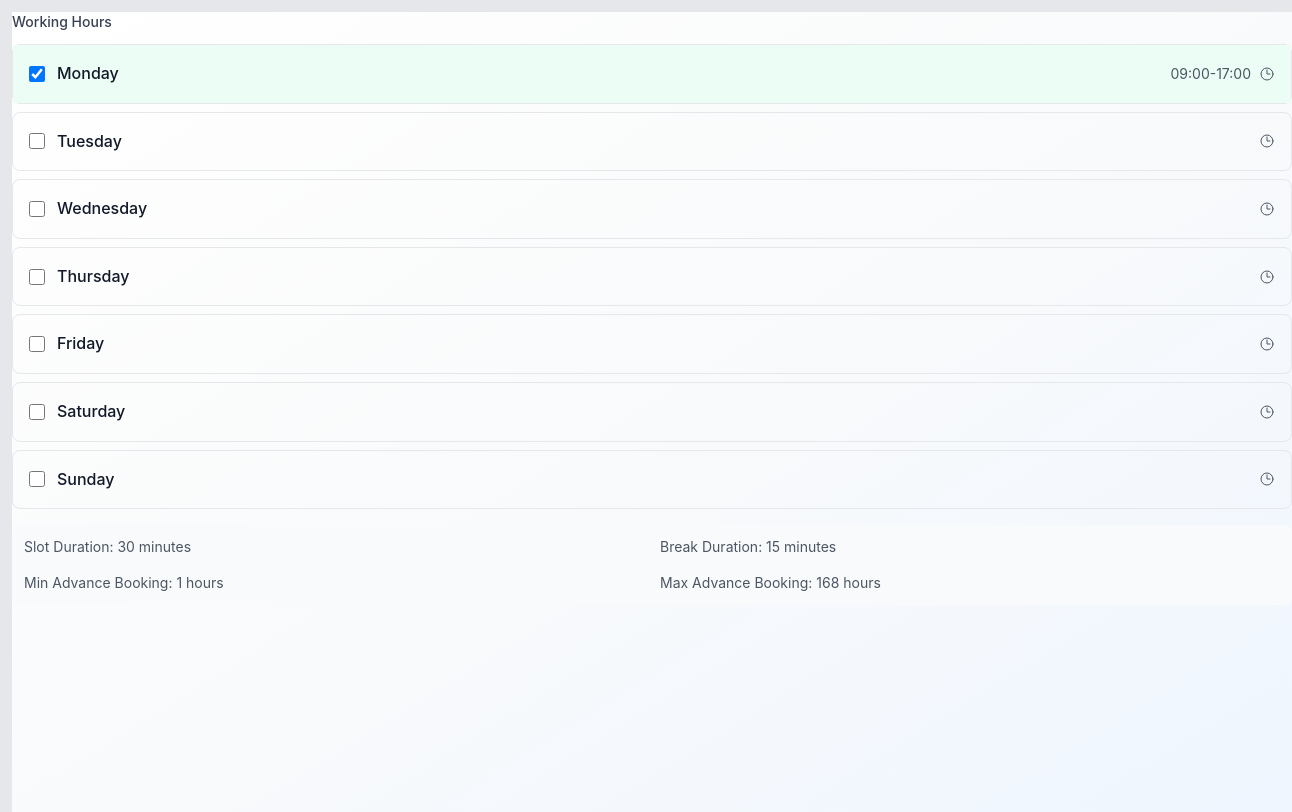
TimeSlotPicker › expands day schedule when clicked
What coordinates should you click on to do the following:
click the text "Monday"
I would click on:
 (74, 74)
Its box is [29, 61, 119, 87].
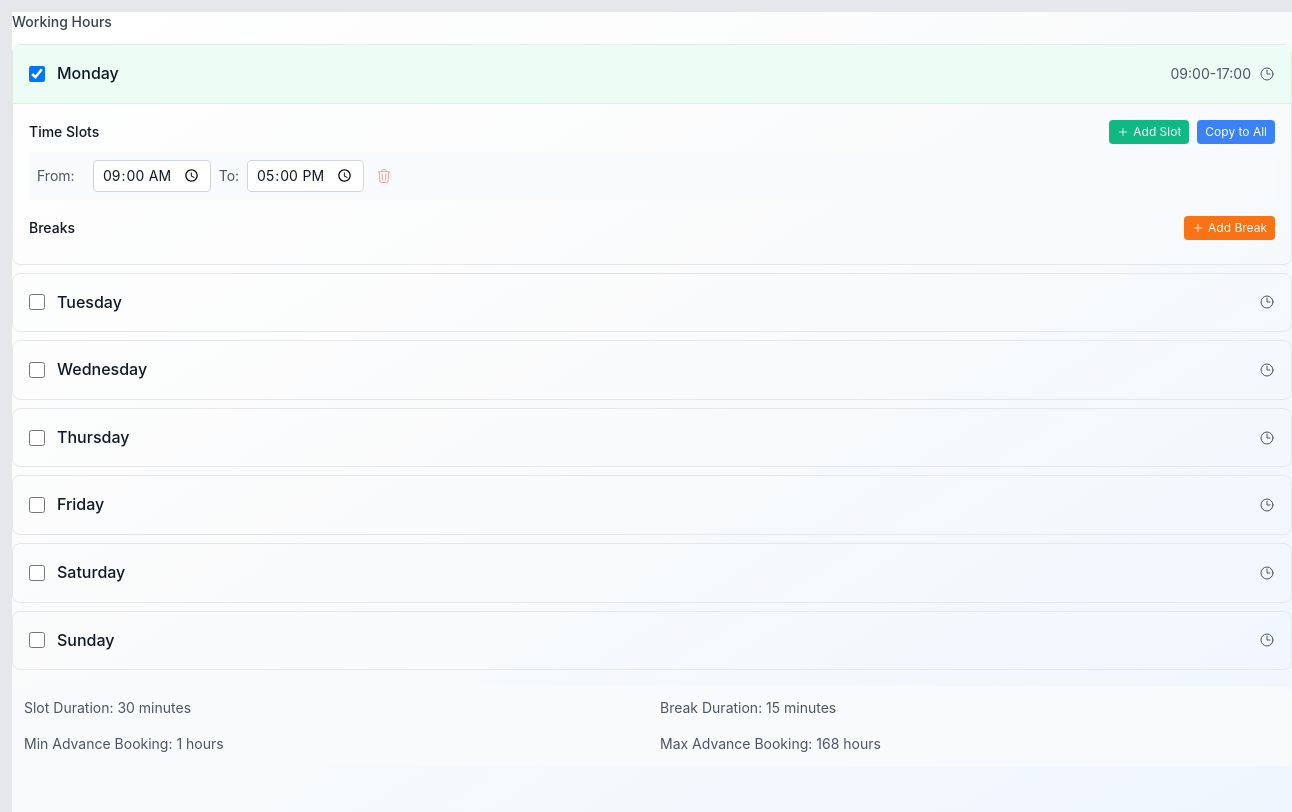
Expected: the heading "Time Slots" is shown, [29, 122, 99, 142]
Expected: the heading "Breaks" is shown, [29, 218, 75, 238]
